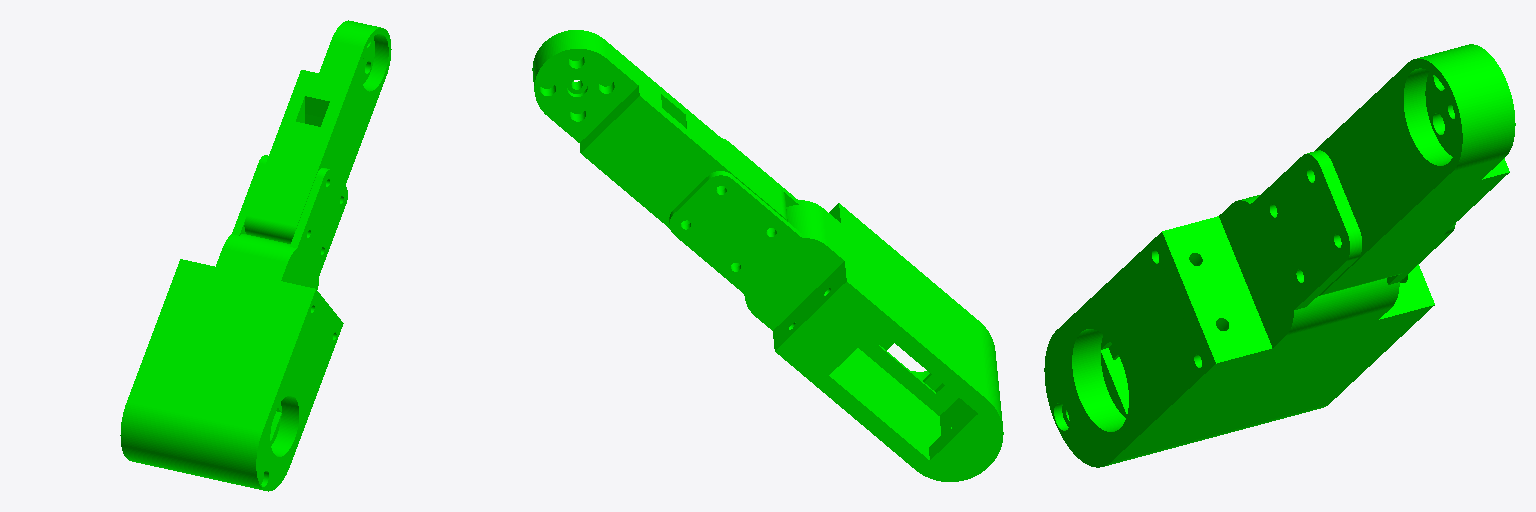
URDF robot description (onshape):
<robot name="onshape">
<material name="white">
		<color rgba="1 1 1 1"/>
	</material>
	<material name="red">
		<color rgba="1 0 0 1"/>
	</material>
	<material name="yellow">
		<color rgba="1 1 0 1"/>
	</material>
	<material name="orange">
		<color rgba="1 0.647 0 1"/>
	</material>
	<material name="green">
		<color rgba="0 1 0 1"/>
	</material>
	<material name="blue">
		<color rgba="0 0 1 1"/>
	</material>
	<material name="black">
		<color rgba="0 0 0 1"/>
	</material>

    <link name="world"/>

    <link name="base">
        <visual>
            <geometry>
                <mesh filename="meshes/visual/Base.stl" scale="0.006 0.006 0.006"/>
            </geometry>
            <material name="red"/>
            <origin xyz="0 0 0" rpy="1.570796 0 0"/> 
        </visual>
        <collision>
            <geometry>
                <mesh filename="meshes/collision/Base_collision.stl" scale="0.006 0.006 0.006"/>
            </geometry>
            <origin xyz="0 0 0" rpy="1.570796 0 0"/> 
        </collision>
        <inertial>
            <mass value="1.0"/>
            <origin xyz="0 0 1" rpy="0 0 0" />
            <inertia ixx="0.0027" iyy="0.0027" izz="0.005" ixy="0" ixz="0" iyz="0"/>
        </inertial>
    </link>

    <joint name="r_axis" type="revolute">
        <parent link="world"/>
        <child link="base"/>
        <origin xyz="0 0 0"	rpy="0 0 0"/>
        <axis xyz="0 0 1"/>
        <limit lower="0" upper="6.28318530718" effort="0" velocity="0.174533"/>
    </joint>

    <link name="arm_section_1">
            <visual>
                <geometry>
                    <mesh filename="meshes/visual/R_section.stl" scale="0.006 0.006 0.006"/>
                </geometry>
                <material name="orange"/>
                <origin xyz="0 0 0.012" rpy="1.570796 0 0" /> 
            </visual>
            <collision>
                <geometry>
                    <mesh filename="meshes/collision/R_section_collision.stl" scale="0.006 0.006 0.006"/>
                </geometry>
                <origin xyz="0 0 0.012" rpy="1.570796 0 0"/> 
            </collision>
            <!-- Check intertial values-->
            <inertial>
                <mass value="1.0"/>
                <origin xyz="0 0 1" rpy="0 0 0" />
                <inertia ixx="0.0027" iyy="0.0027" izz="0.005" ixy="0" ixz="0" iyz="0"/>
            </inertial>
    </link>

        <joint name="base_to_arm_section_1" type="fixed">
            <parent link="base"/>
            <child link="arm_section_1"/>
            <origin xyz="0 -0.012 0"	rpy="0 0 0"/>
        </joint>

<link name="arm_section_2">
		<visual>
			<geometry>
				<mesh filename="meshes/visual/A_section.stl" scale="0.006 0.006 0.006"/>
			</geometry>
            <material name="yellow"/>
			<origin xyz="0 0 0.012" rpy="1.570796 0 0"/> 
		</visual>
		<collision>
			<geometry>
				<mesh filename="meshes/collision/A_section_collision.stl" scale="0.006 0.006 0.006"/>
			</geometry>
			<origin xyz="0 0 0.012" rpy="1.570796 0 0"/> 
		</collision>
		<!-- Check intertial values-->
		<inertial>
			<mass value="1.0"/>
			<origin rpy="0 0 0" xyz="0 0 1"/>
			<inertia ixx="0.0027" iyy="0.0027" izz="0.005" ixy="0" ixz="0" iyz="0"/>
		</inertial>
	</link>

    <joint name="a_axis" type="revolute">
		<parent link="arm_section_1"/>
		<child link="arm_section_2"/>
		<origin xyz="0 0 0.012" rpy="0 0 0"/>
		<axis xyz="0 1 0"/>
		<limit lower="-1.57079632679" upper="1.57079632679" effort="0" velocity="0.174533"/>
	</joint>

    <link name="arm_section_3">
		<visual>
			<geometry>
				<mesh filename="meshes/visual/B_section.stl" scale="0.006 0.006 0.006"/>
			</geometry>
			<material name="green"/>
			<origin xyz="0 0 0.2" rpy="1.570796 0 0"/> 
		</visual>
		<collision>
			<geometry>
				<mesh filename="meshes/collision/B_section_collision.stl" scale="0.006 0.006 0.006"/>
			</geometry>
			<origin xyz="0 0 0.2" rpy="1.570796 0 0"/> 
		</collision>
		<!-- Check intertial values-->
		<inertial>
			<mass value="1.0"/>
			<origin rpy="0 0 0.2" xyz="0 0 1"/>
			<inertia ixx="0.0027" iyy="0.0027" izz="0.005" ixy="0" ixz="0" iyz="0"/>
		</inertial>
	</link>

    <joint name="b_axis" type="revolute">
		<parent link="arm_section_2"/>
		<child link="arm_section_3"/>
		<origin xyz="0 0 0" rpy="0 0 0"/>
		<axis xyz="1 0 0"/>
		<limit lower="0" upper="2.8" effort="0" velocity="0.174533"/>
	</joint>

</robot>

--- Facts derived from the render (not from the file) ---
The picture shows the robot from 3 angles, left to right: view 1: azimuth 30°, elevation 25°; view 2: azimuth 150°, elevation 25°; view 3: azimuth 270°, elevation 25°; orthographic projection.
Model onshape with 5 links and 4 joints (3 revolute, 1 fixed), rooted at world, posed every joint at zero.
Links seen in each view (by area): view 1: arm_section_3; view 2: arm_section_3; view 3: arm_section_3.
Link boxes in pixels (<box>): arm_section_3: <box>120,20,391,491</box>; arm_section_3: <box>532,30,1003,481</box>; arm_section_3: <box>1044,44,1515,467</box>.
Size in the robot's own frame: 0.8037 by 0.5866 by 0.7782 metres.
Meshes: 4 distinct files referenced, 1 mesh visuals loaded (1 binary STL); not drawn: 3 (reference not matched to a file when rendering).